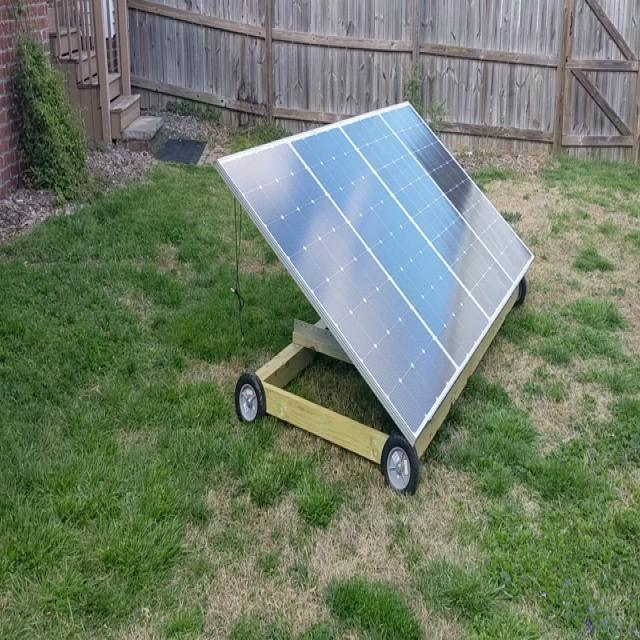Normal Solar Panel: (218, 102, 535, 438)
